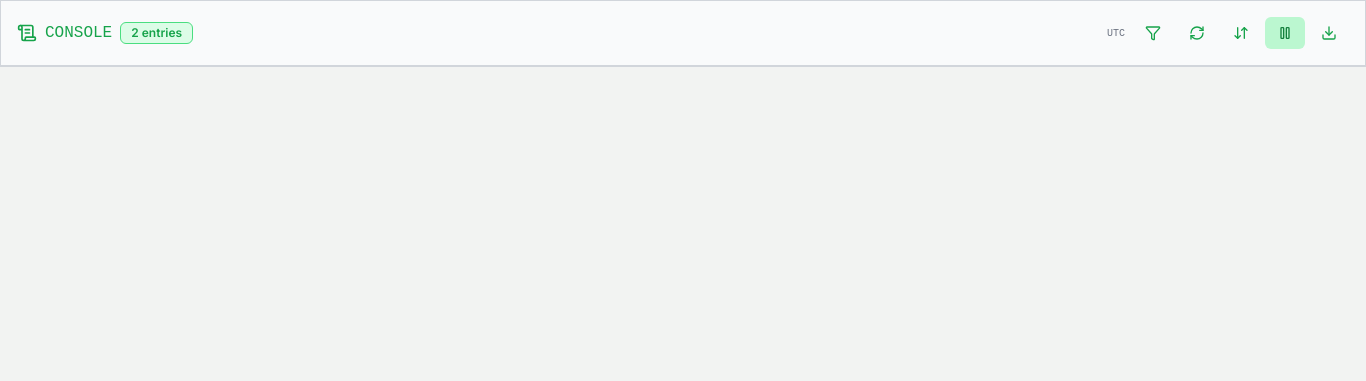
ConsoleInterface › search and filtering › searches the text a stored line shows, not its JSON
Click the 1st button. click: click(1153, 33)
box: 1133,17 -> 1173,49
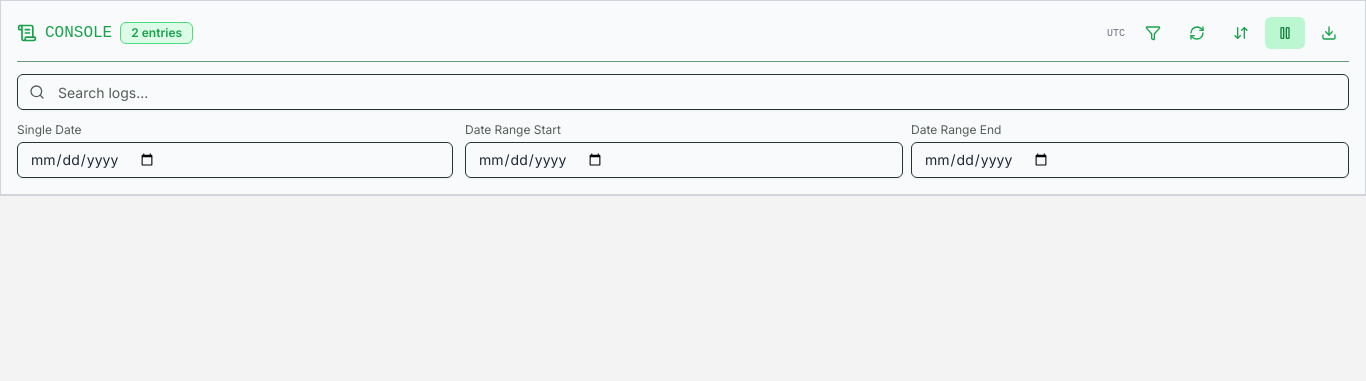
Type "btc & eth" into the field with placeholder "Search logs...". click: (683, 92)
box: 17,74 -> 1349,110
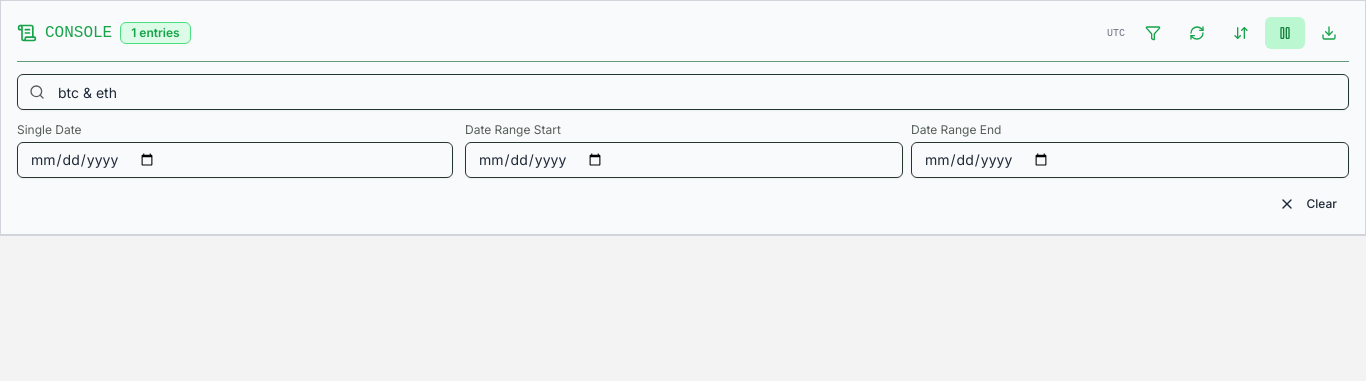
Expected: the text "1 entries" is shown, 120,22 -> 191,44
Replace the text in the field with placeholder "Search logs..." with "_key". click: (683, 92)
box: 17,74 -> 1349,110
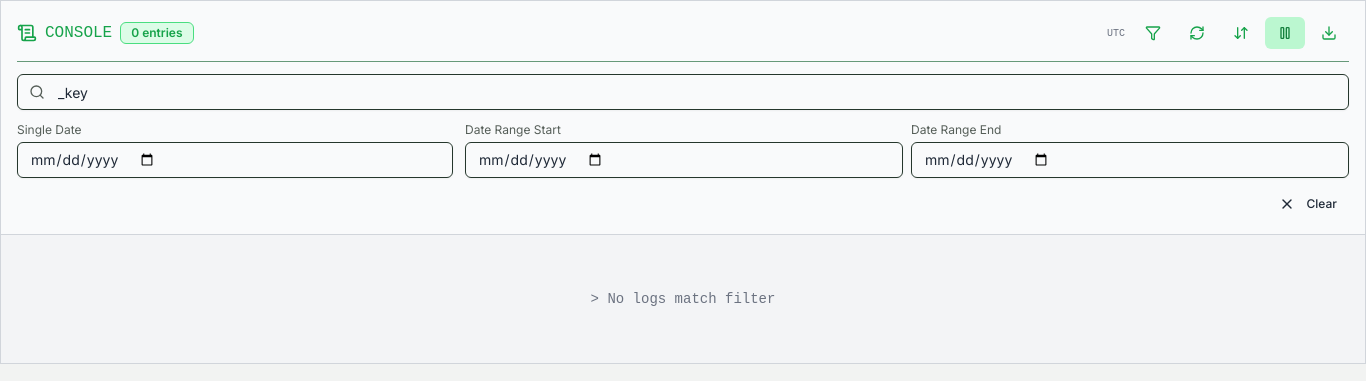
Expected: the text "> No logs match filter" is shown, 591,291 -> 775,307
